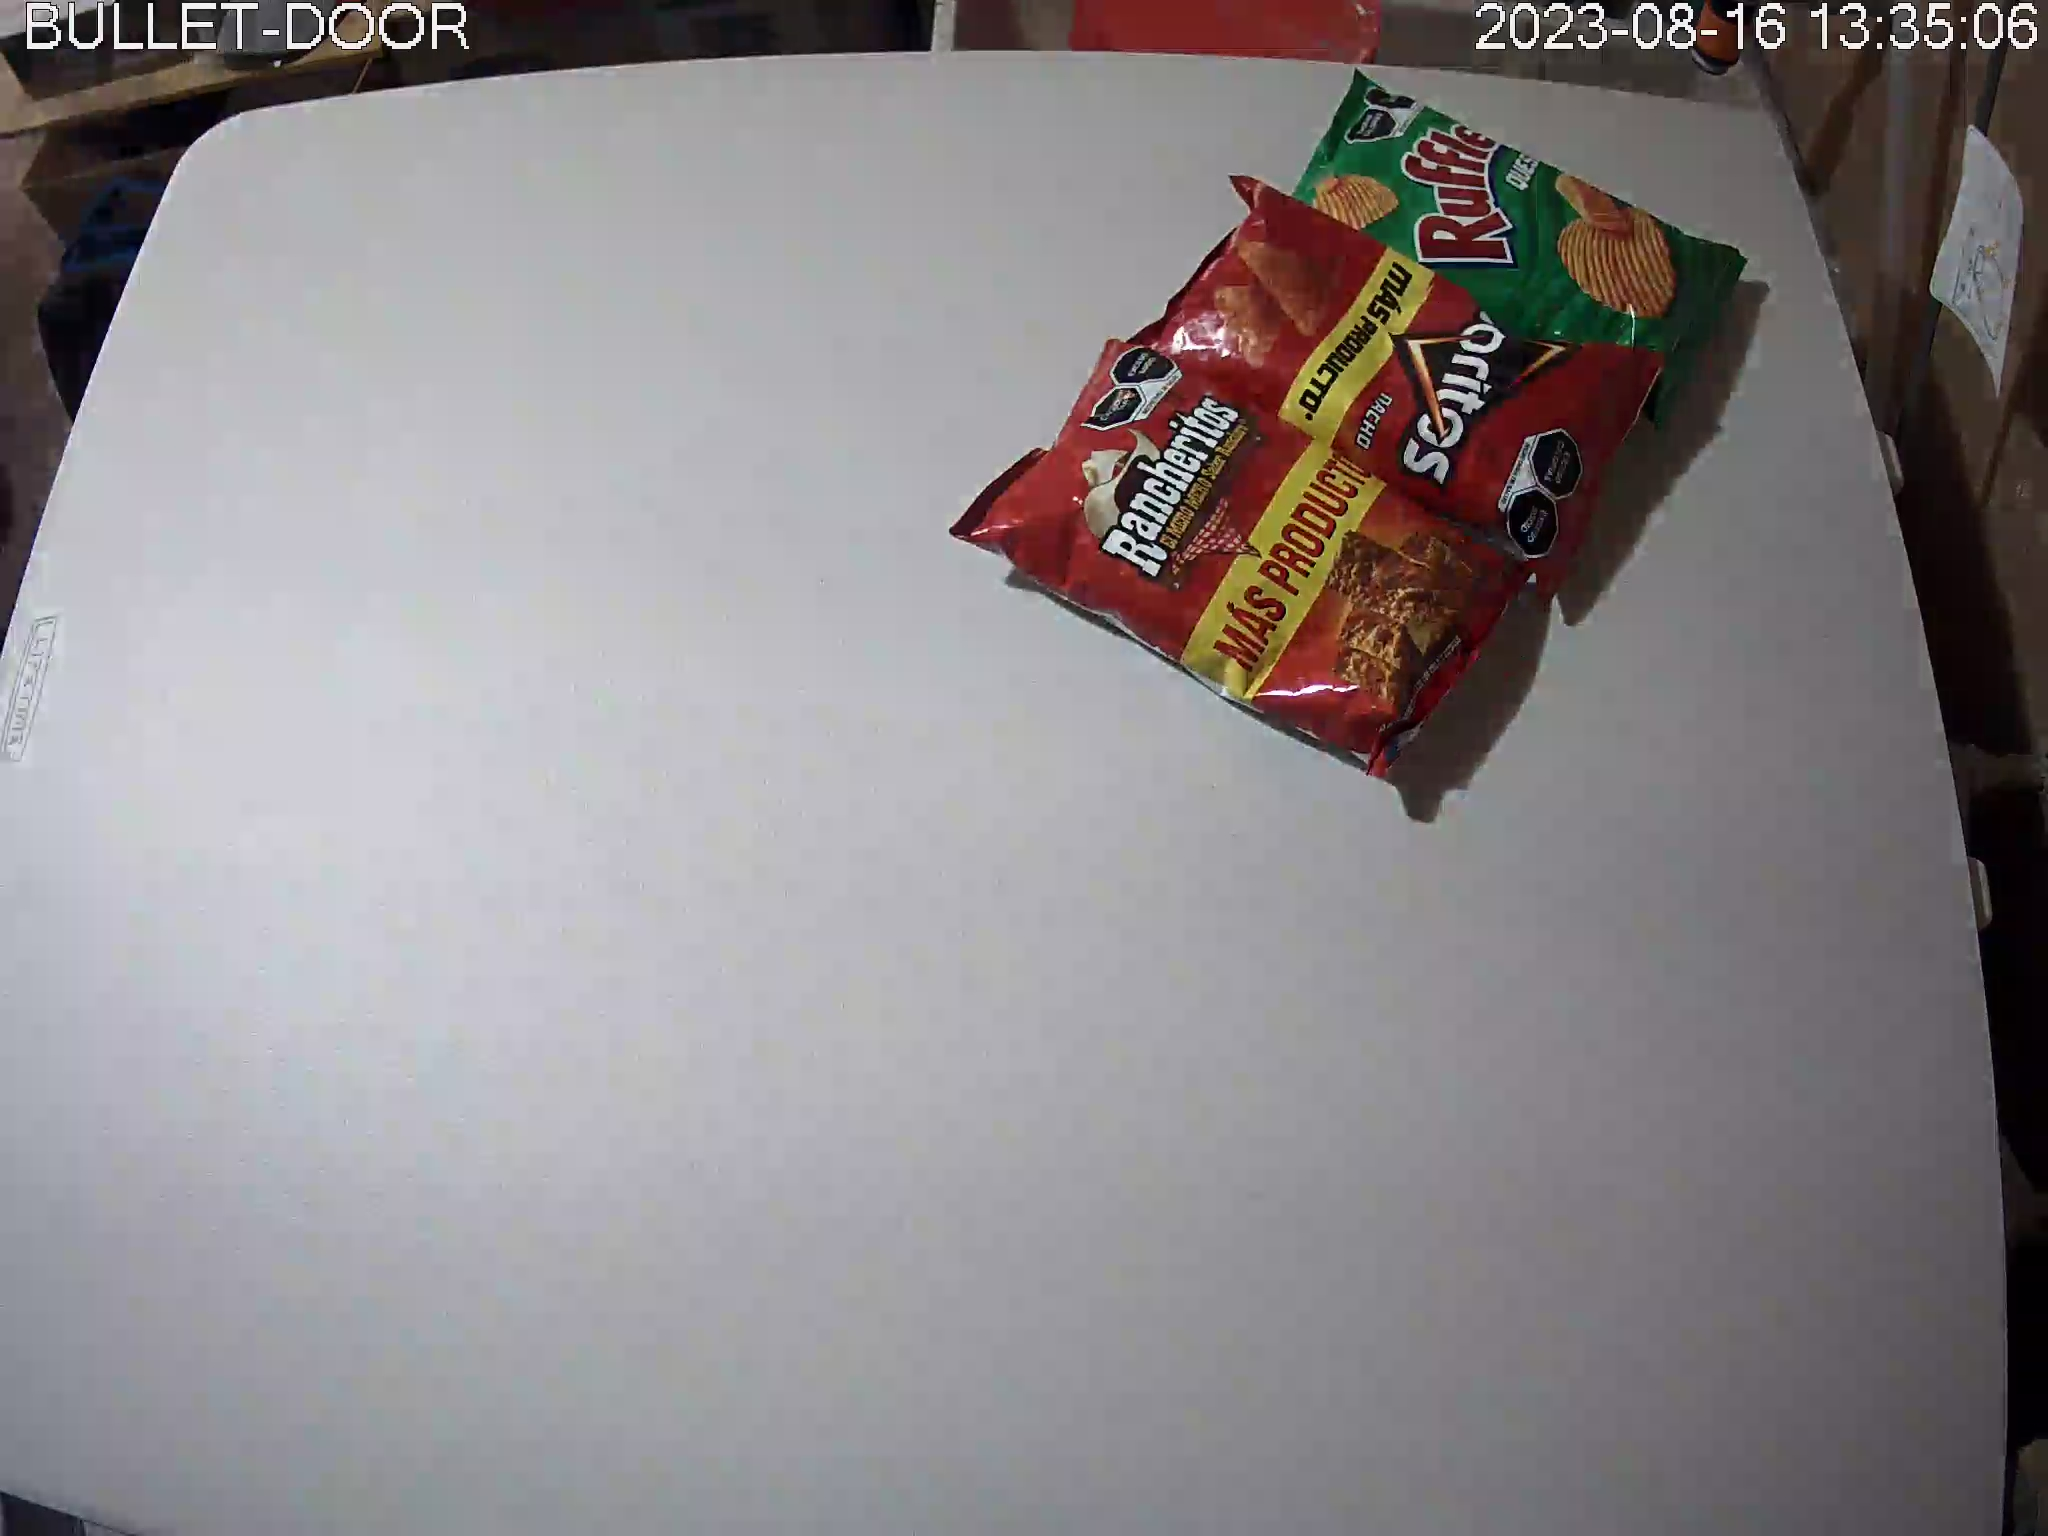DoritosN_61_F: (1121, 176, 1667, 608)
Rancheritos_58_F: (948, 339, 1545, 783)
RufflesQ_48_F: (1284, 69, 1746, 423)
